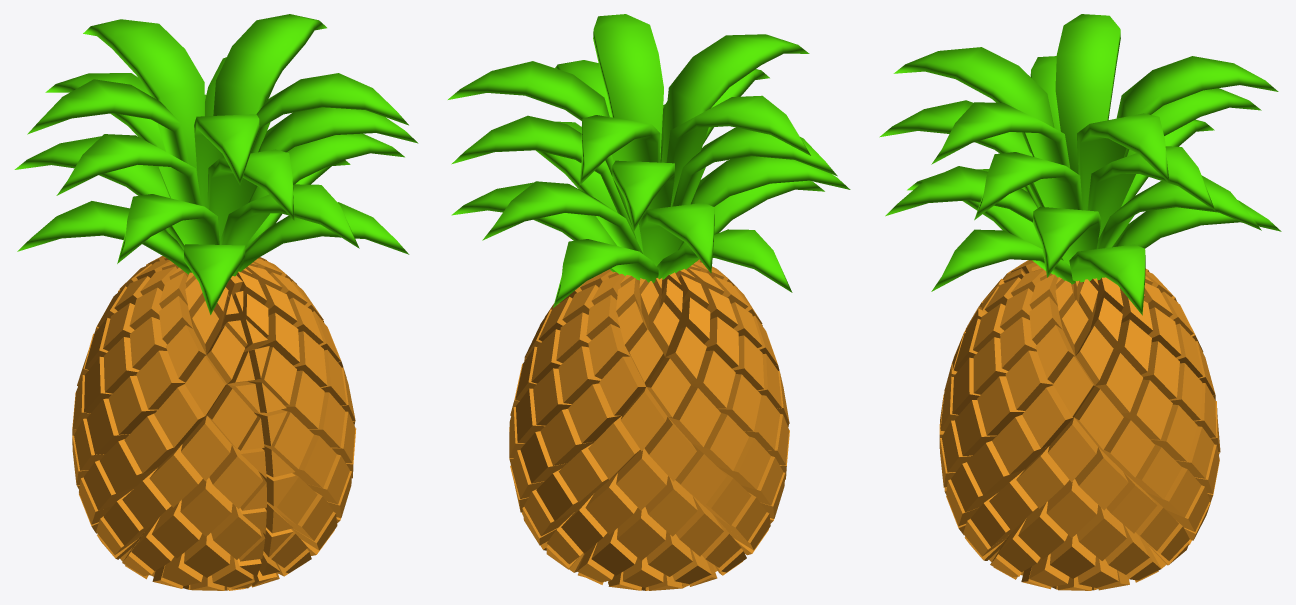
The model's file is Pineapple1.fbx.
The picture shows the model from 3 angles, left to right: view 1: azimuth 30°, elevation 25°; view 2: azimuth 150°, elevation 25°; view 3: azimuth 270°, elevation 25°; orthographic projection.
Parts seen in each view (by area): view 1: Сфера, Плоскость; view 2: Сфера, Плоскость; view 3: Сфера, Плоскость.
Boxes of the visible parts, x1,y1,x2,y2 form: Сфера: [72, 256, 356, 590]; Плоскость: [14, 14, 418, 314]; Сфера: [509, 259, 789, 590]; Плоскость: [448, 14, 850, 307]; Сфера: [939, 260, 1220, 590]; Плоскость: [879, 14, 1281, 315].
Bounding box in the file's own units: 364 × 491 × 366.
